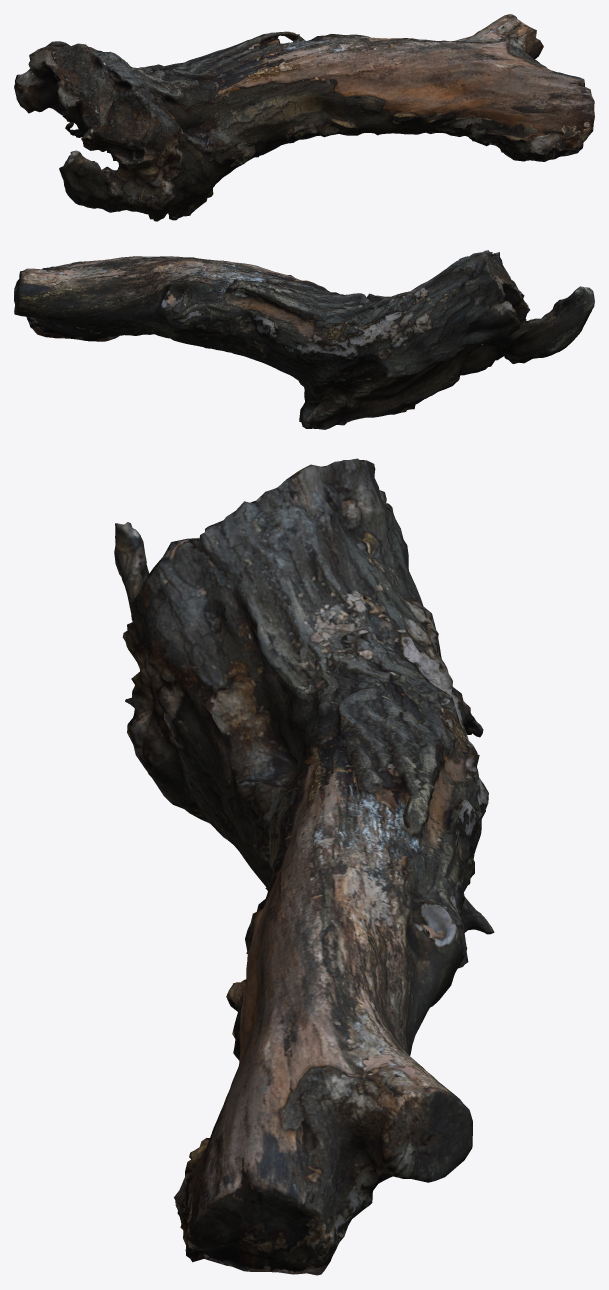
The model's file is mossy_old_tree_log.glb.
3 renders of one model, top to bottom at view 1: azimuth 30°, elevation 25°; view 2: azimuth 150°, elevation 25°; view 3: azimuth 270°, elevation 25°, orthographic. The views are drawn at different scales.
Parts seen in each view (by area): view 1: ForestLogMedium_1; view 2: ForestLogMedium_1; view 3: ForestLogMedium_1.
Part boxes in pixels (x1,y1,x2,y2): ForestLogMedium_1: (14, 14, 594, 221); ForestLogMedium_1: (14, 250, 594, 429); ForestLogMedium_1: (114, 458, 494, 1275).
Bounding box in the file's own units: 1.32 × 0.4496 × 0.415.
1 material, 1 textured.
